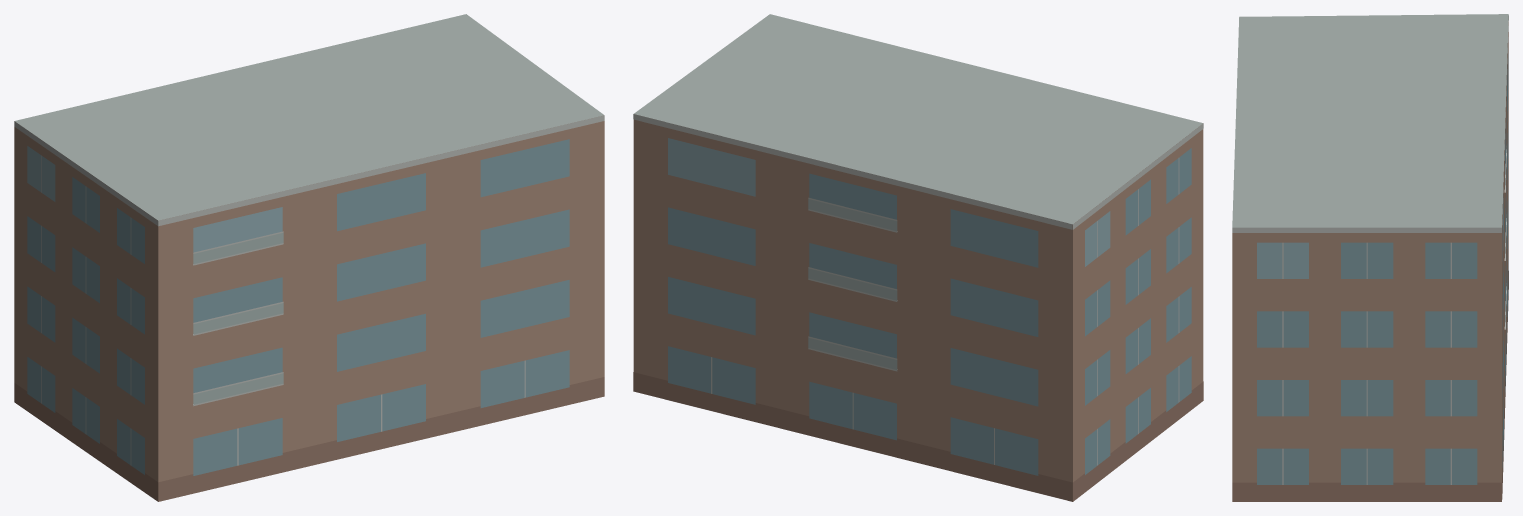
Rendered from residential-1a34f41b-6cb2-478c-8ccf-08e1f6d2c7e8.glb.
3 renders of one model, left to right at view 1: azimuth 30°, elevation 25°; view 2: azimuth 150°, elevation 25°; view 3: azimuth 270°, elevation 25°, orthographic. The views are drawn at different scales.
Visible parts, largest first — view 1: residential-1a34f41b-6cb2-478c-8ccf-08e1f6d2c7e8.tmp; view 2: residential-1a34f41b-6cb2-478c-8ccf-08e1f6d2c7e8.tmp; view 3: residential-1a34f41b-6cb2-478c-8ccf-08e1f6d2c7e8.tmp.
Part boxes in pixels (x1=…): residential-1a34f41b-6cb2-478c-8ccf-08e1f6d2c7e8.tmp: x1=14, y1=14, x2=604, y2=501; residential-1a34f41b-6cb2-478c-8ccf-08e1f6d2c7e8.tmp: x1=633, y1=14, x2=1203, y2=501; residential-1a34f41b-6cb2-478c-8ccf-08e1f6d2c7e8.tmp: x1=1232, y1=14, x2=1508, y2=501.
Size of the model in its own units: 20.38 by 12.2 by 11.16.
